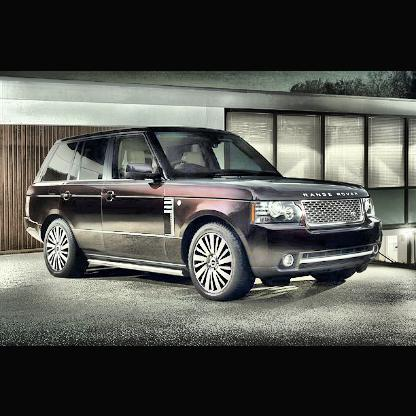Land Rover Range Rover SUV 2012: (25, 126, 383, 301)
